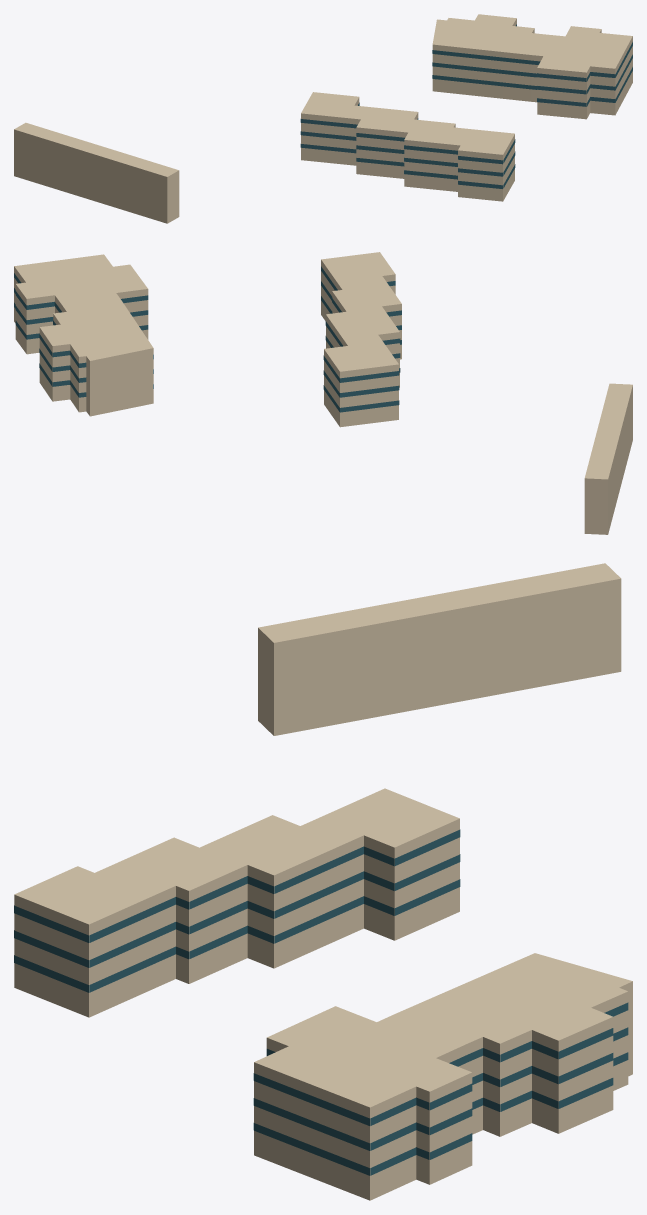
Rendered from city_6_-8.glb.
3 renders of one model, top to bottom at view 1: azimuth 30°, elevation 25°; view 2: azimuth 150°, elevation 25°; view 3: azimuth 270°, elevation 25°, orthographic. The views are drawn at different scales.
Visible parts, largest first — view 1: city_6_-8; view 2: city_6_-8; view 3: city_6_-8.
Boxes of the visible parts, left/top/right/bottom form: city_6_-8: left=14, top=14, right=632, bottom=223; city_6_-8: left=14, top=252, right=632, bottom=534; city_6_-8: left=14, top=563, right=632, bottom=1200.
Size of the model in its own units: 188 by 15 by 90.31.
